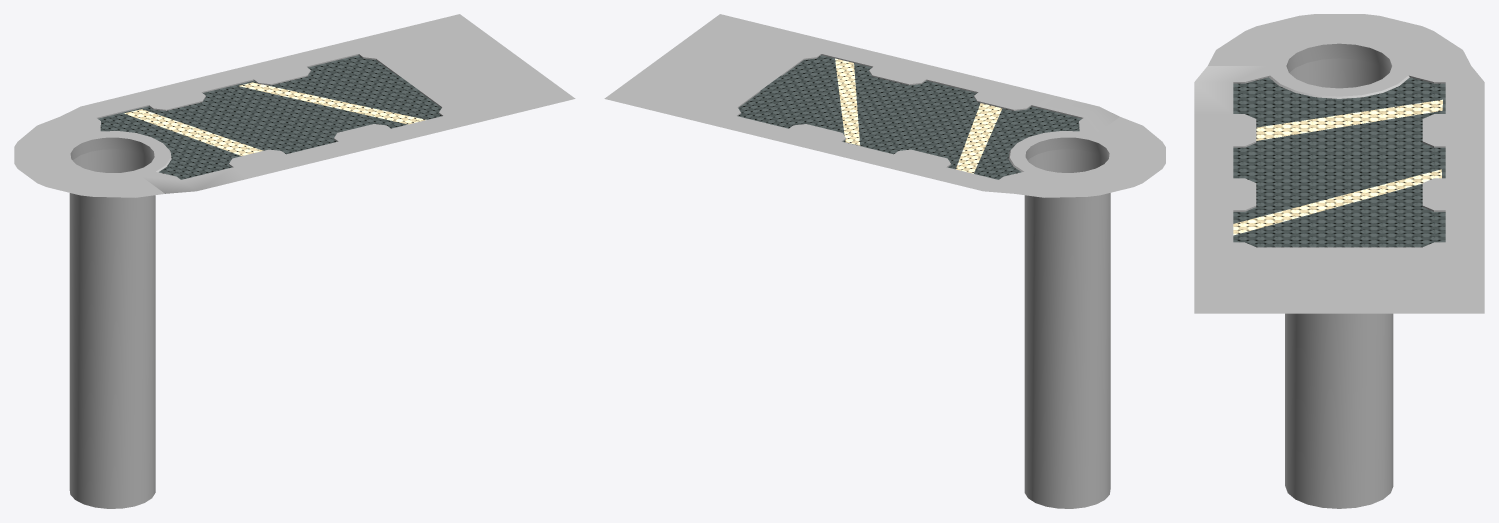
File: SM_ThroneRoom_F.FBX
3 renders of one model, left to right at view 1: azimuth 30°, elevation 25°; view 2: azimuth 150°, elevation 25°; view 3: azimuth 270°, elevation 25°, orthographic. The views are drawn at different scales.
Visible parts, largest first — view 1: SM_ThroneRoom_F; view 2: SM_ThroneRoom_F; view 3: SM_ThroneRoom_F.
Boxes of the visible parts, left/top/right/bottom form: SM_ThroneRoom_F: left=14, top=14, right=575, bottom=508; SM_ThroneRoom_F: left=604, top=14, right=1165, bottom=508; SM_ThroneRoom_F: left=1194, top=14, right=1484, bottom=508.
Size of what is drawn, in the model's own units: 4785 by 1959 by 3128.
